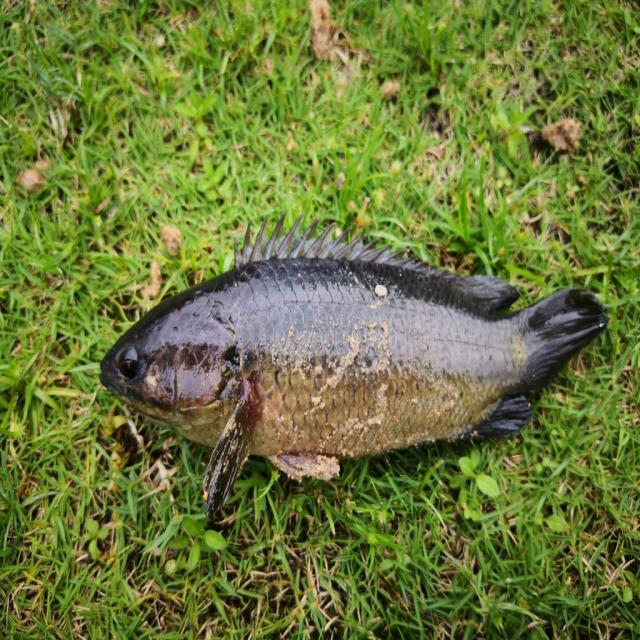Climbing-Perch: (88, 210, 628, 537)
